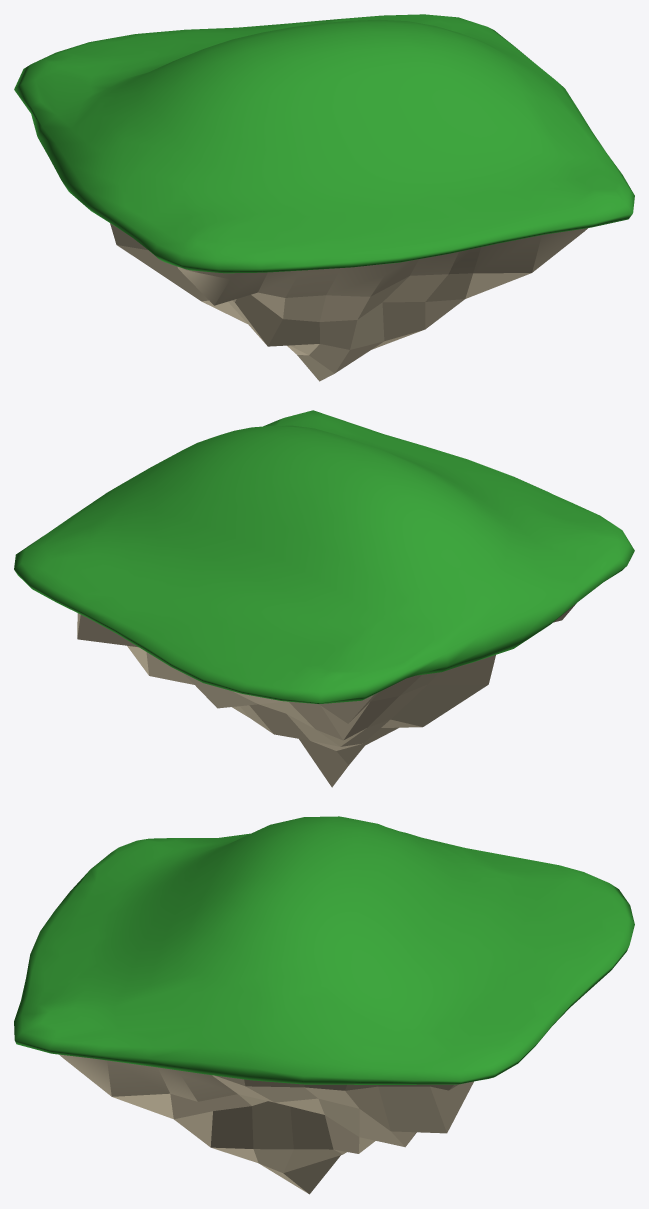
Rendered from SM_Island5.fbx.
3 views of the same model, one above another, from view 1: azimuth 30°, elevation 25°; view 2: azimuth 150°, elevation 25°; view 3: azimuth 270°, elevation 25° (orthographic). The views are drawn at different scales.
Visible parts, largest first — view 1: SM_Island5; view 2: SM_Island5; view 3: SM_Island5.
Part boxes in pixels (left/top/right/bottom): SM_Island5: left=14, top=14, right=634, bottom=381; SM_Island5: left=14, top=410, right=634, bottom=787; SM_Island5: left=14, top=816, right=634, bottom=1194.
Bounding box in the file's own units: 39.94 × 27.04 × 44.01.
